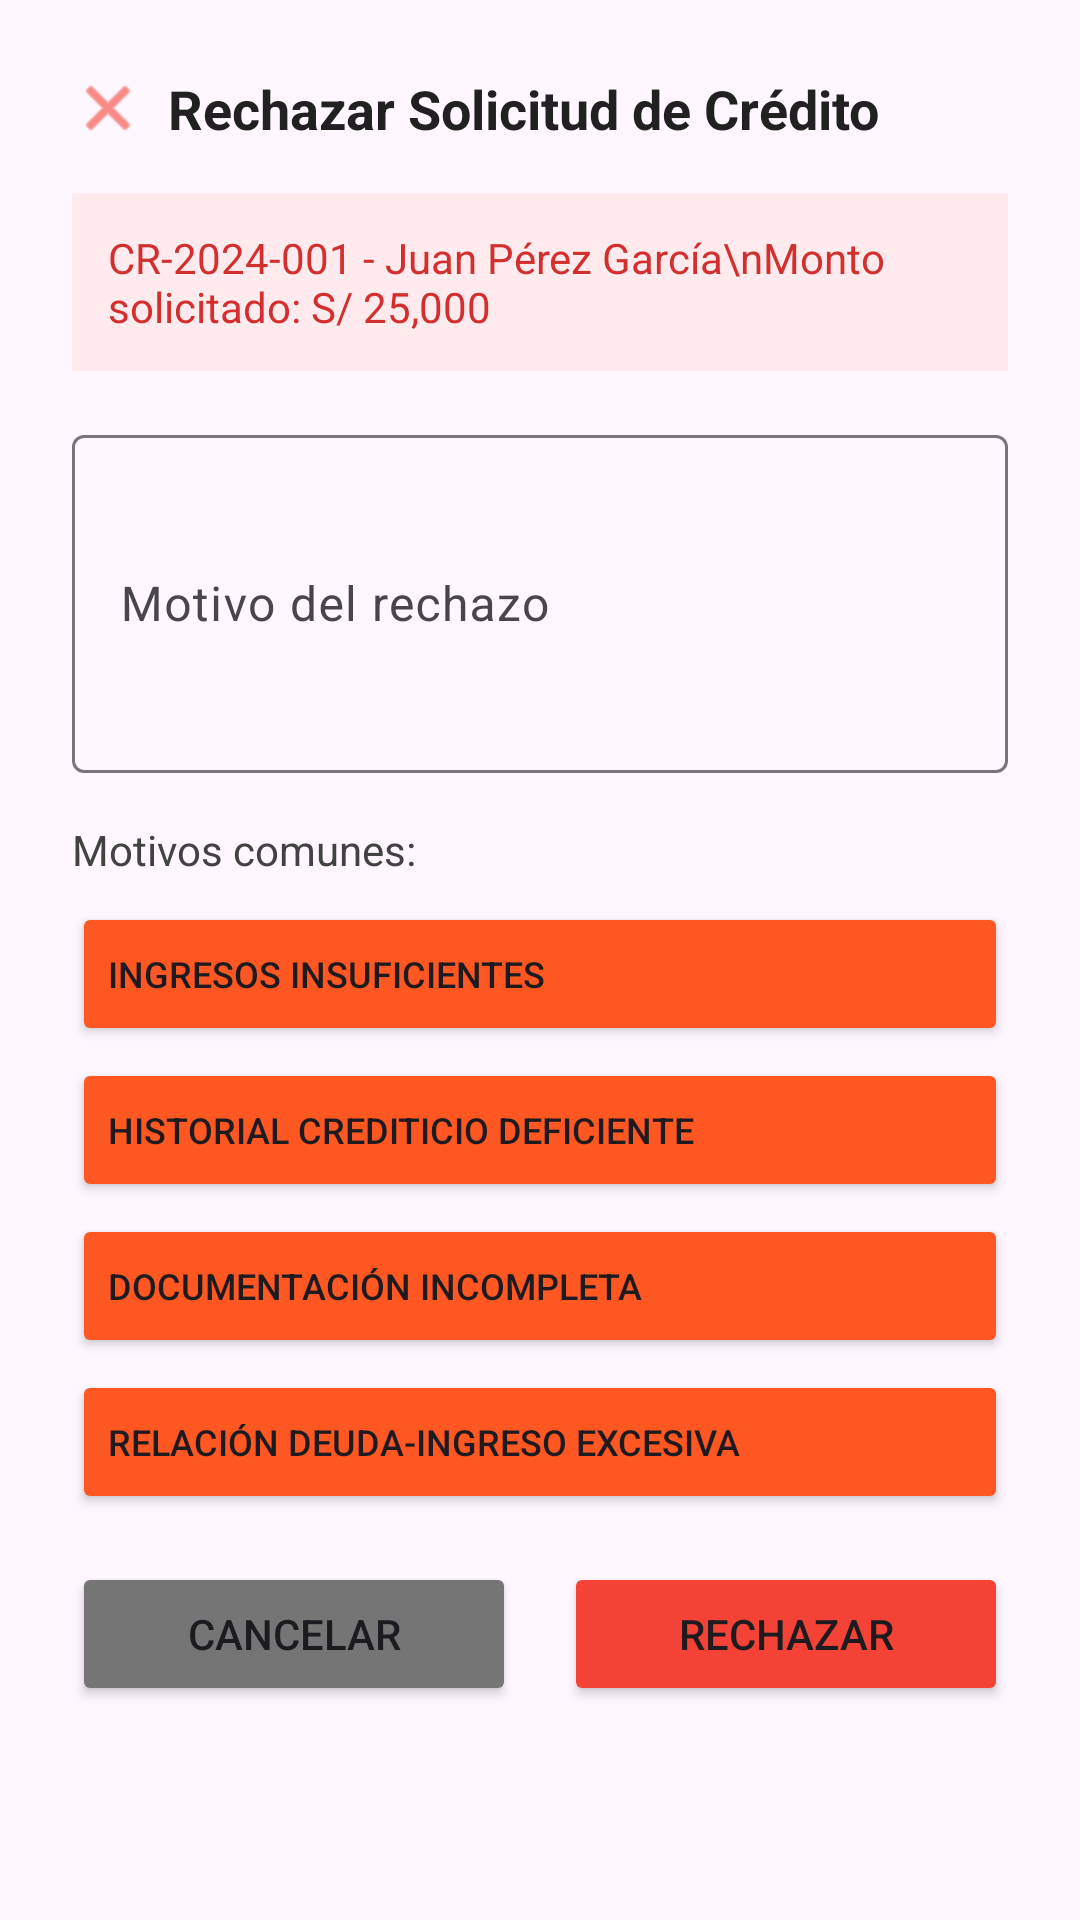

Named icons in this screenshot (1080px×1920px) and their centers, [x,y]:
close clear cancel: [108,108]
